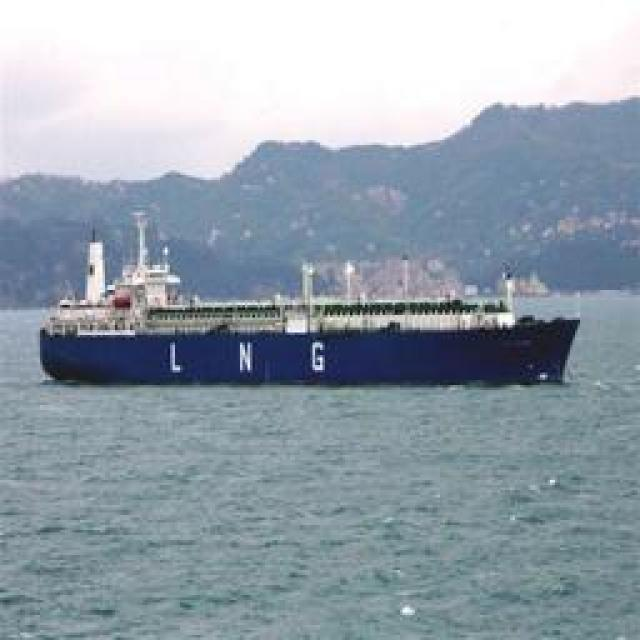ship2: (39, 217, 581, 388)
